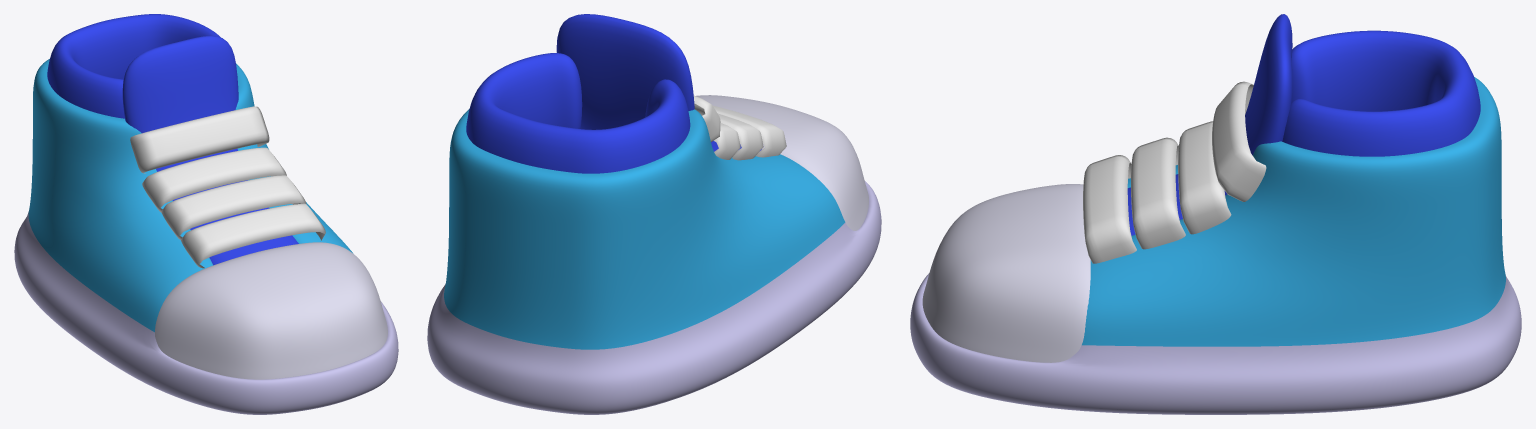
The model's file is shoes.fbx.
3 renders of one model, left to right at view 1: azimuth 30°, elevation 25°; view 2: azimuth 150°, elevation 25°; view 3: azimuth 270°, elevation 25°, orthographic. The views are drawn at different scales.
Visible parts, largest first — view 1: Cube, Cube.003, Cube.001, Cube.002, NurbsPath.003, NurbsPath, NurbsPath.001, NurbsPath.002; view 2: Cube, Cube.002, Cube.001, Cube.003, NurbsPath, NurbsPath.001, NurbsPath.002, NurbsPath.003; view 3: Cube, Cube.003, Cube.002, Cube.001, NurbsPath.001, NurbsPath, NurbsPath.002, NurbsPath.003.
Boxes of the visible parts, box(x1,y1,x2,y2) form: Cube: box(14, 59, 398, 414); Cube.003: box(155, 242, 387, 379); Cube.001: box(122, 35, 298, 265); Cube.002: box(47, 14, 220, 118); NurbsPath.003: box(130, 106, 269, 173); NurbsPath: box(181, 203, 325, 268); NurbsPath.001: box(161, 175, 306, 240); NurbsPath.002: box(142, 147, 286, 212); Cube: box(427, 109, 881, 414); Cube.002: box(466, 53, 690, 173); Cube.001: box(556, 14, 761, 151); Cube.003: box(696, 95, 868, 230); NurbsPath: box(713, 105, 786, 157); NurbsPath.001: box(717, 113, 763, 160); NurbsPath.002: box(713, 123, 740, 159); NurbsPath.003: box(693, 95, 720, 141); Cube: box(910, 77, 1521, 414); Cube.003: box(922, 184, 1090, 362); Cube.002: box(1282, 30, 1480, 156); Cube.001: box(1127, 14, 1292, 235); NurbsPath.001: box(1131, 137, 1185, 249); NurbsPath: box(1083, 155, 1136, 263); NurbsPath.002: box(1178, 121, 1231, 234); NurbsPath.003: box(1212, 81, 1266, 201).
Size of the model in its own units: 229 by 224 by 391.
